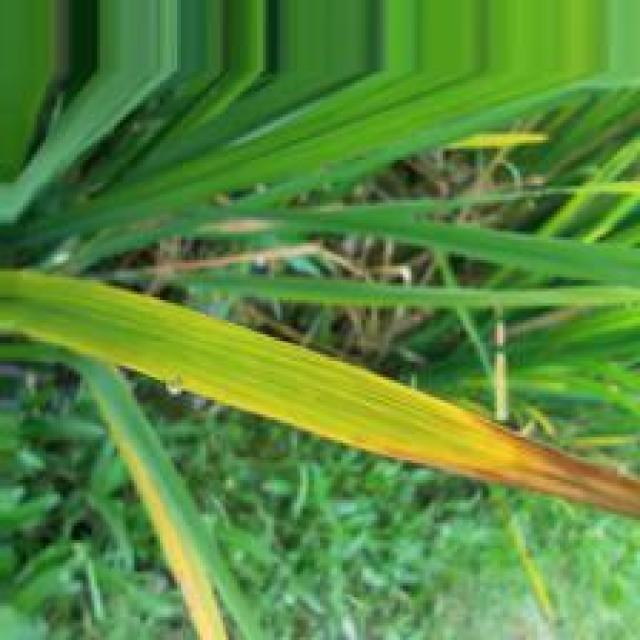Leaf_Scald: (355, 403, 638, 514)
